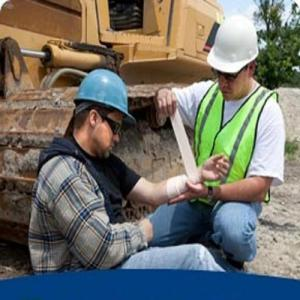blue: (69, 67, 135, 162)
white: (205, 15, 264, 102)
